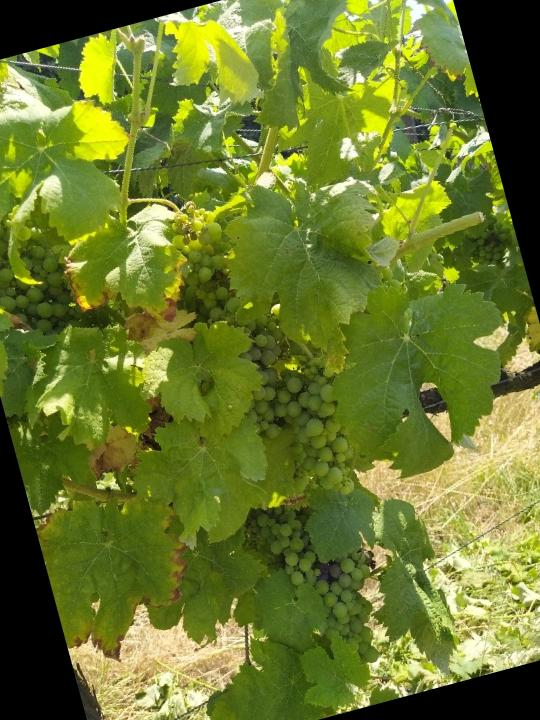grape: (241, 480, 400, 687), (152, 184, 296, 387), (259, 342, 371, 510), (0, 195, 94, 362)
